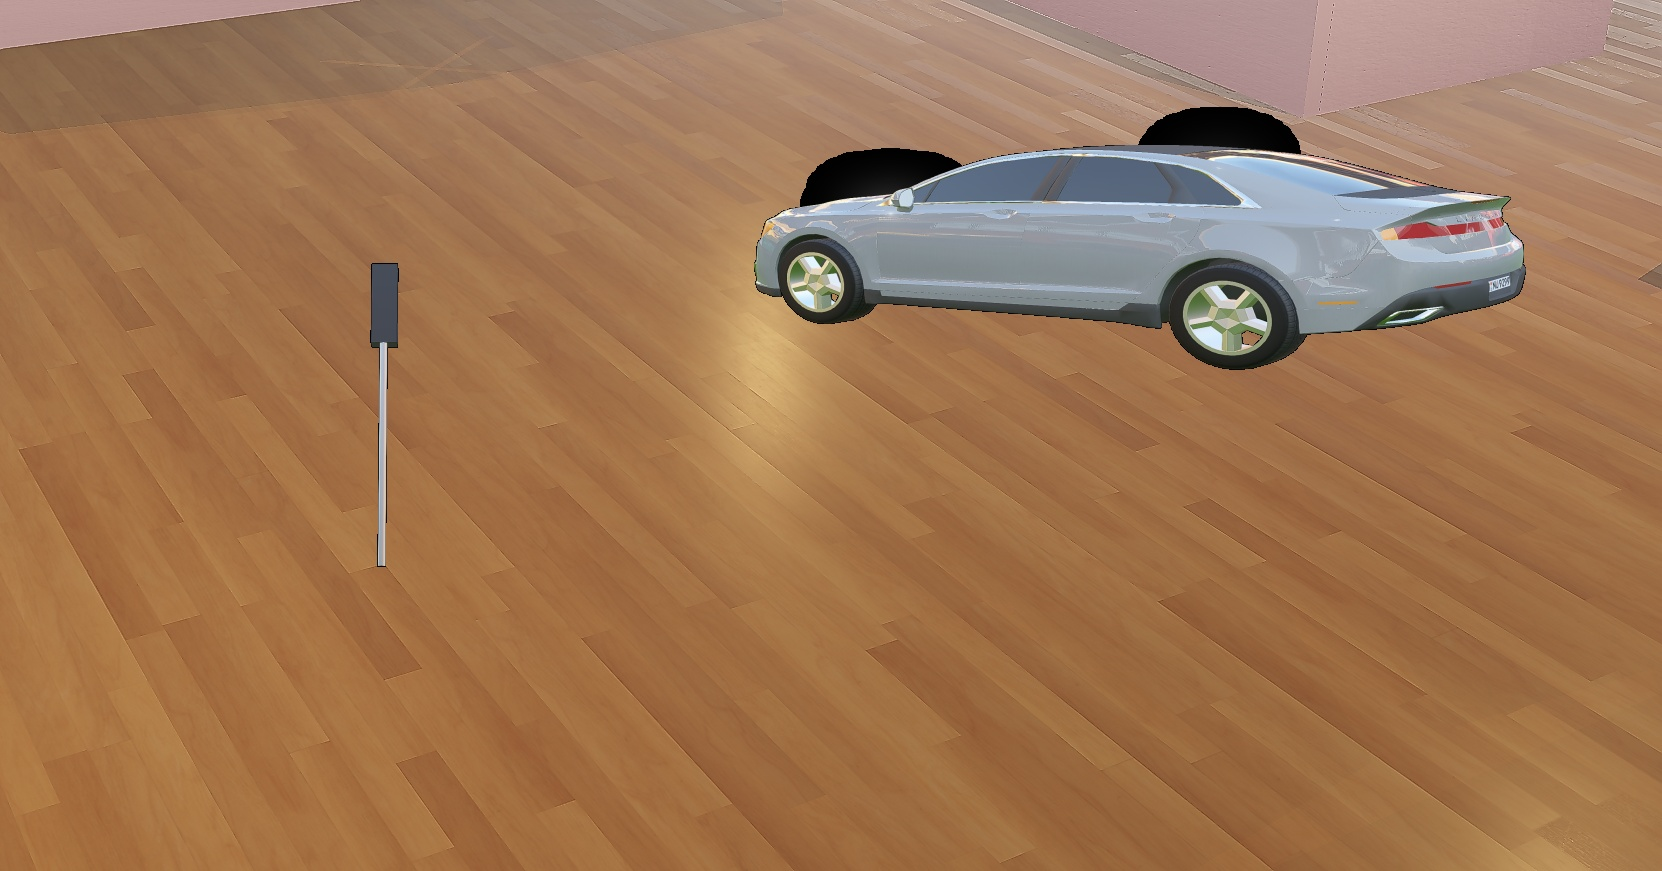coche: (753, 106, 1527, 370)
semaforo: (370, 263, 399, 567)
